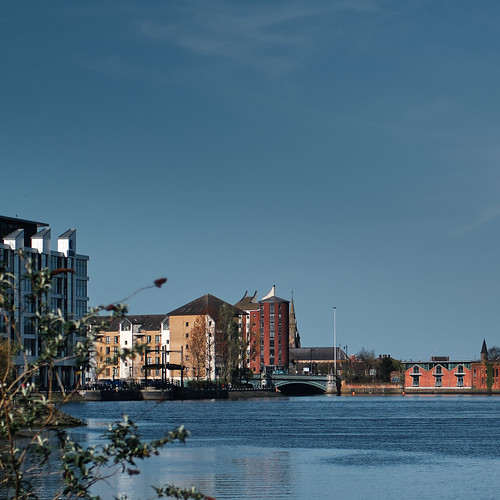bridge: (263, 366, 348, 399)
building: (1, 216, 94, 382), (98, 295, 240, 376), (245, 287, 293, 369), (402, 357, 498, 392)
river: (57, 399, 500, 497)
sky: (1, 1, 496, 342)
